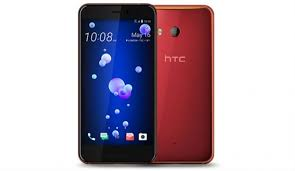htc: (74, 1, 156, 166), (155, 1, 216, 163)
